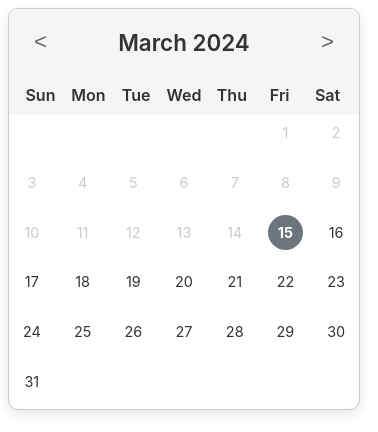
Scenario: Calendar Component › navigates to previous month
Step 1. Click the button "<" → click(41, 42), box x1=24 y1=24 x2=57 y2=60
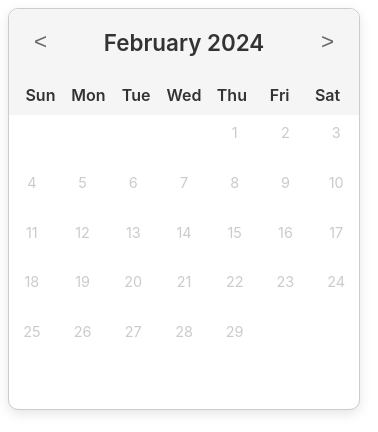
Expected: the heading "February 2024" is shown, x1=104 y1=28 x2=264 y2=56
